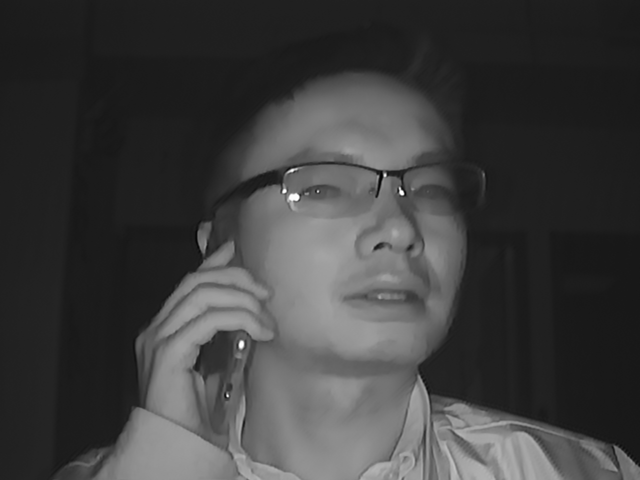hand: (133, 244, 273, 411)
